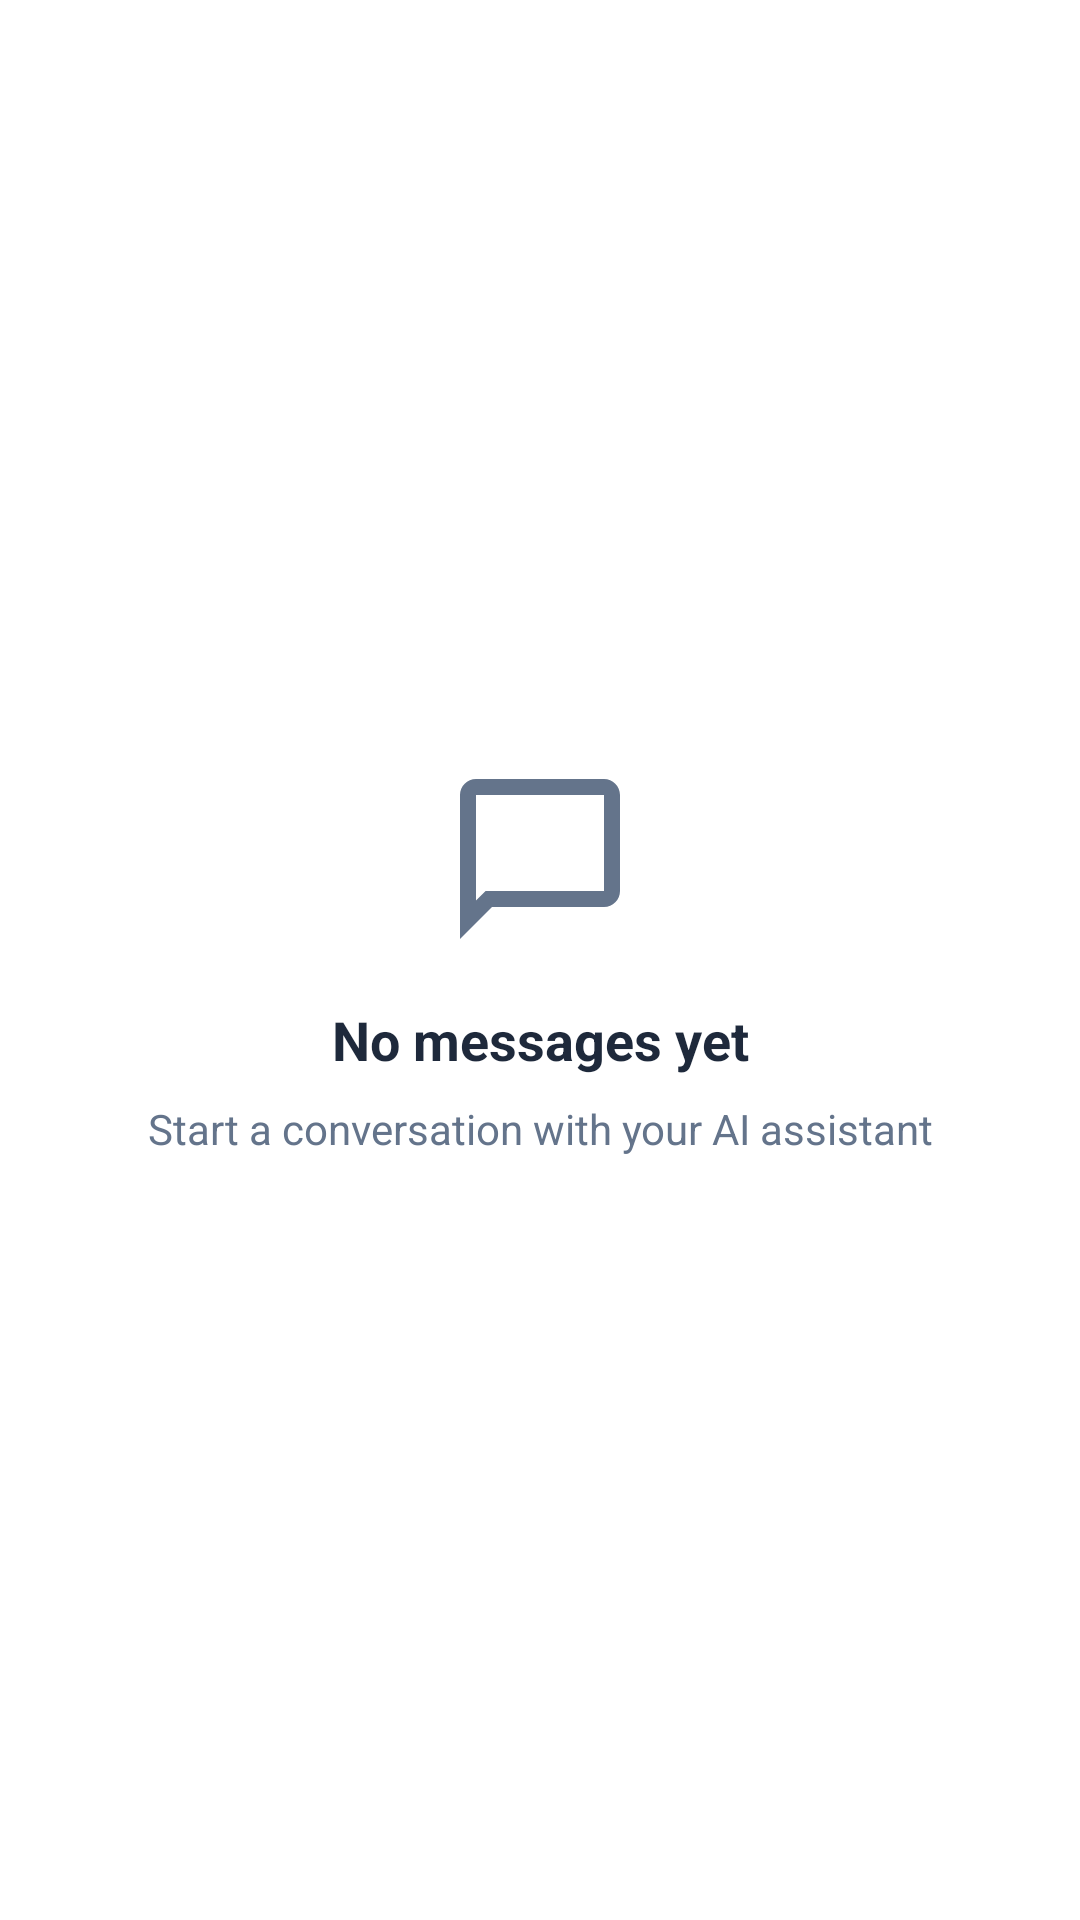

Icon bounding boxes for this 1080x1920 phone screenshot, format (x1, y1, x2, y2):
artemis chat: (460, 779, 620, 939)
